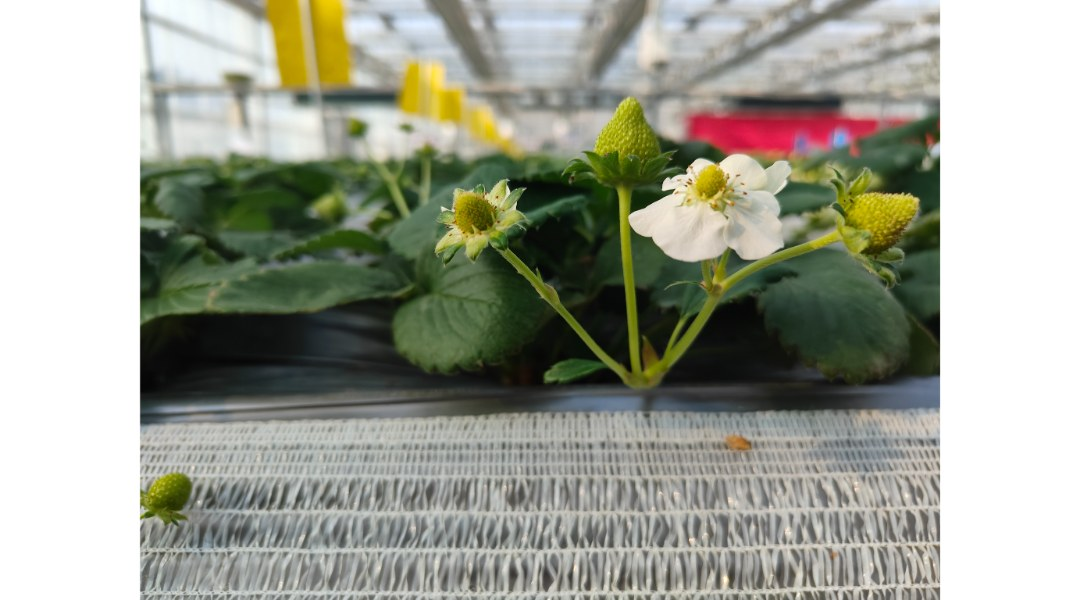berry: (828, 156, 930, 284), (429, 173, 533, 267), (576, 93, 673, 190), (135, 461, 205, 528)
flower: (633, 141, 795, 252)
strain: (503, 253, 606, 376), (615, 192, 643, 377), (736, 232, 828, 285), (677, 298, 711, 378)
